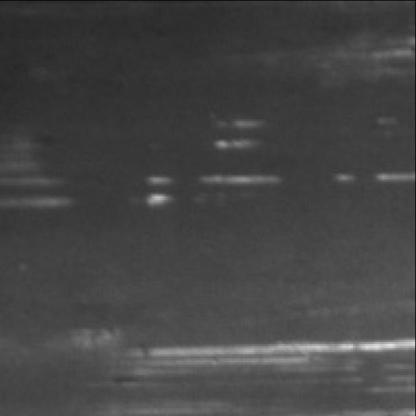scratches: (81, 333, 412, 385)
